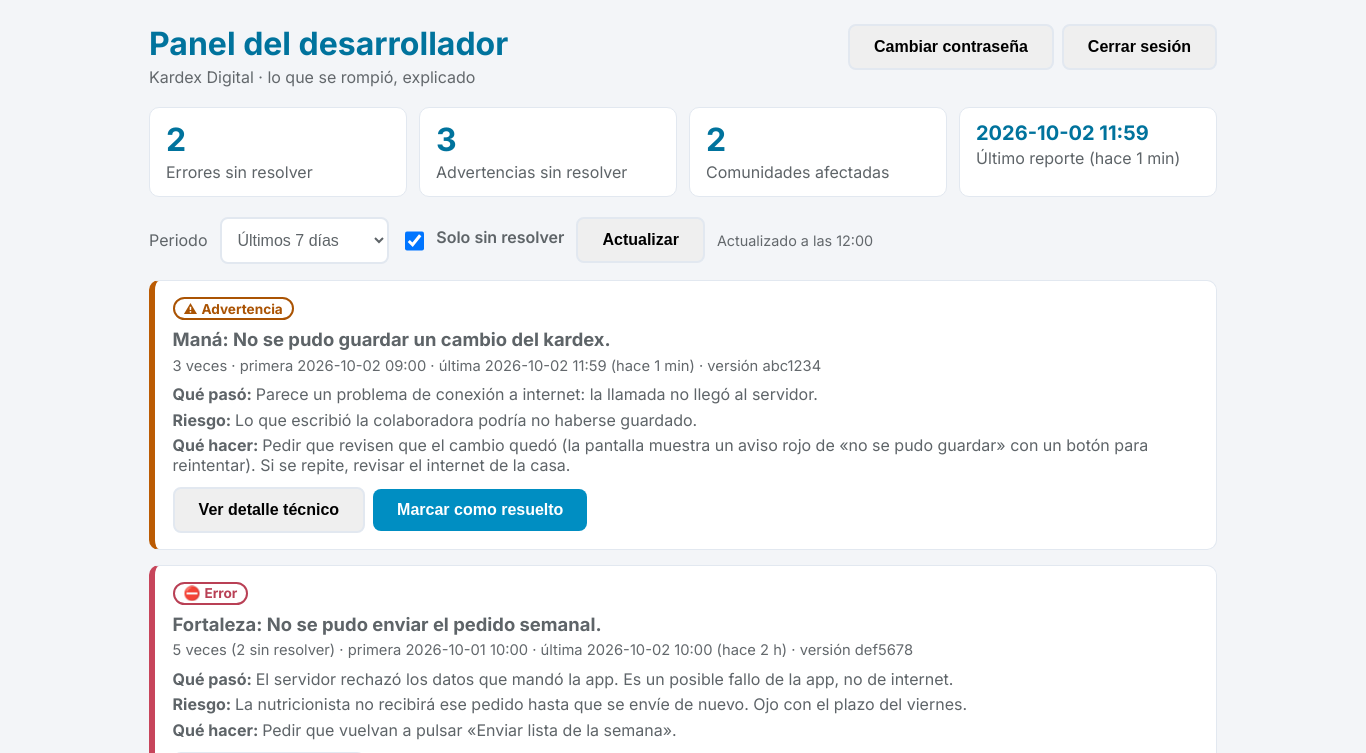
Test: marcar como resuelto › si falla, avisa y deja el problema como estaba (con la confirmación abierta para reintentar)
Click the button "Marcar como resuelto" below "3 veces": click(480, 510) top-left (373, 489), bottom-right (587, 531)
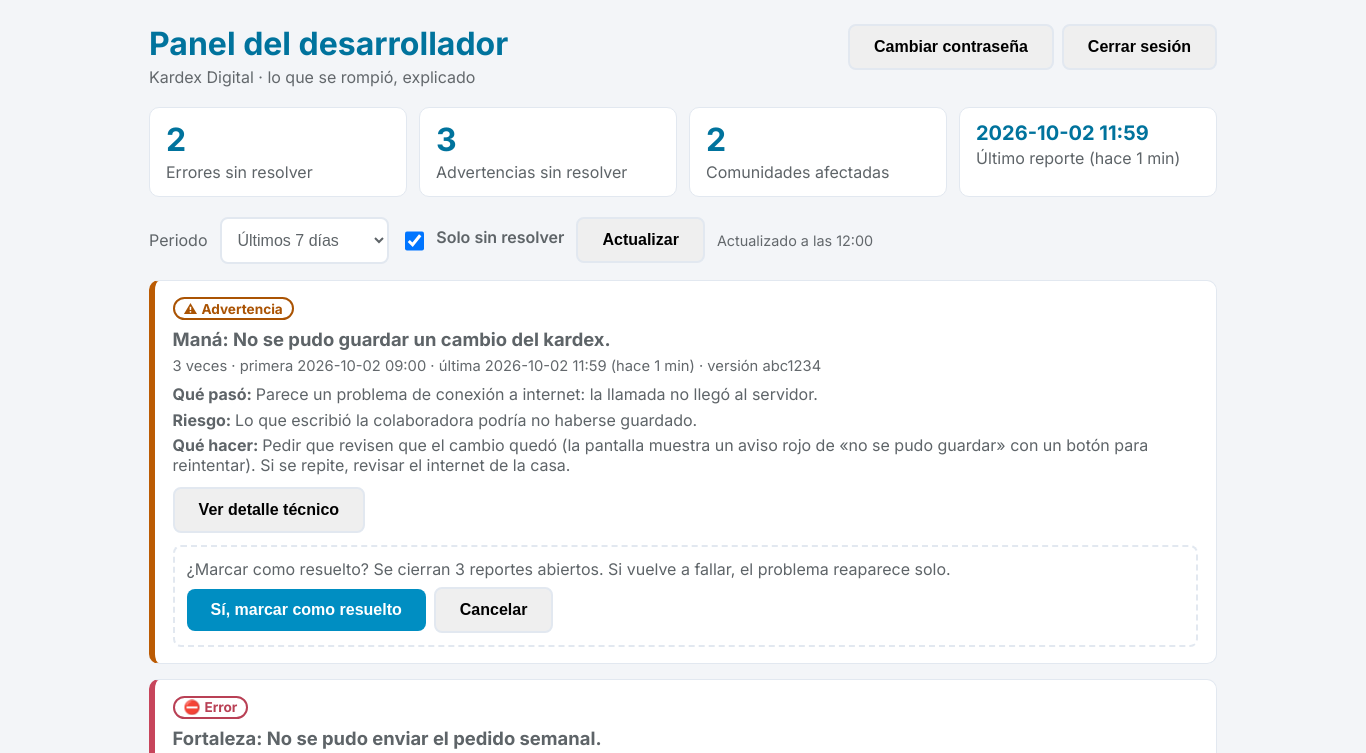
Click the button "Sí, marcar como resuelto": click(306, 610) top-left (187, 589), bottom-right (426, 631)
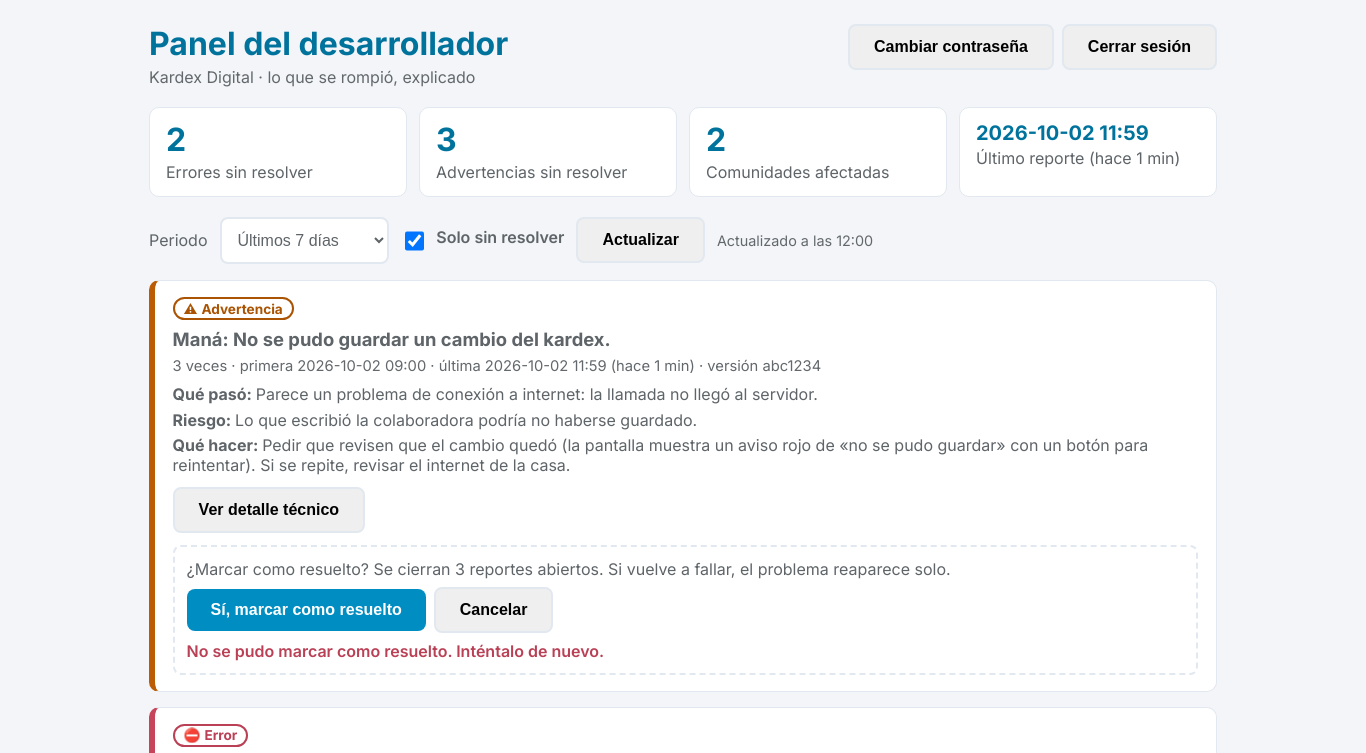
Expected: the button "Sí, marcar como resuelto" is shown, top-left (187, 589), bottom-right (426, 631)
Expected: the message shows "No se pudo marcar como resuelto", top-left (187, 641), bottom-right (604, 661)
